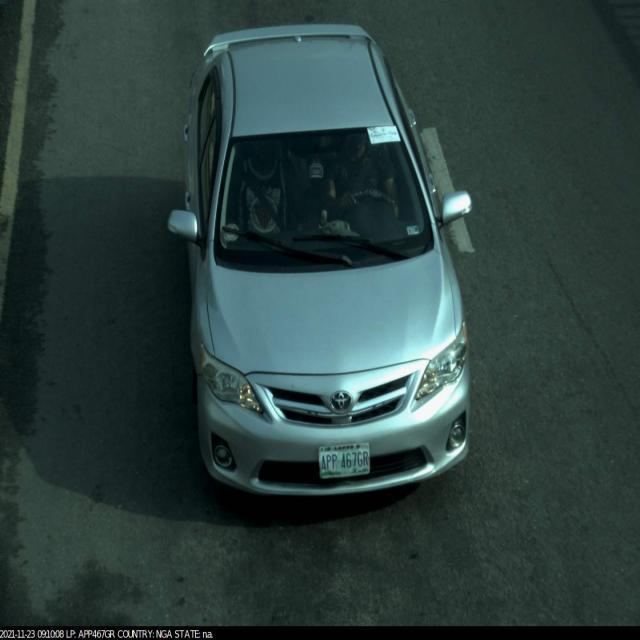windshield: (208, 120, 438, 276)
